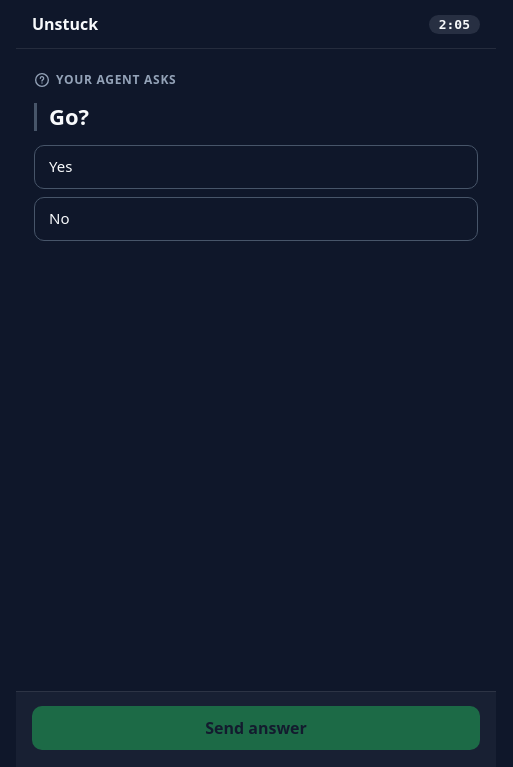
it: question screen › an error from the engine lets the person send again
This screenshot has width=513, height=767.
Later steps or results of the test are not shown.
Click the button "Yes" at (61, 166), box [34, 144, 478, 188]
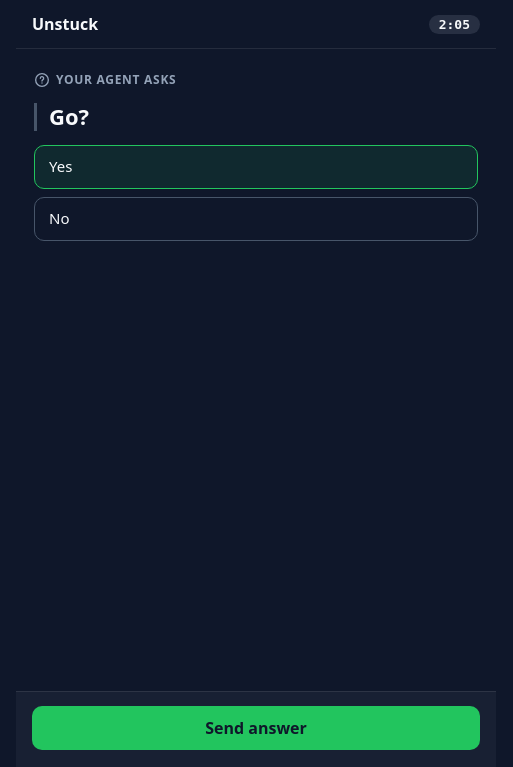
Click the button "Send answer" at (256, 728), box [32, 706, 480, 750]
Result: the button "Send answer" is enabled at [32, 706, 480, 750]
